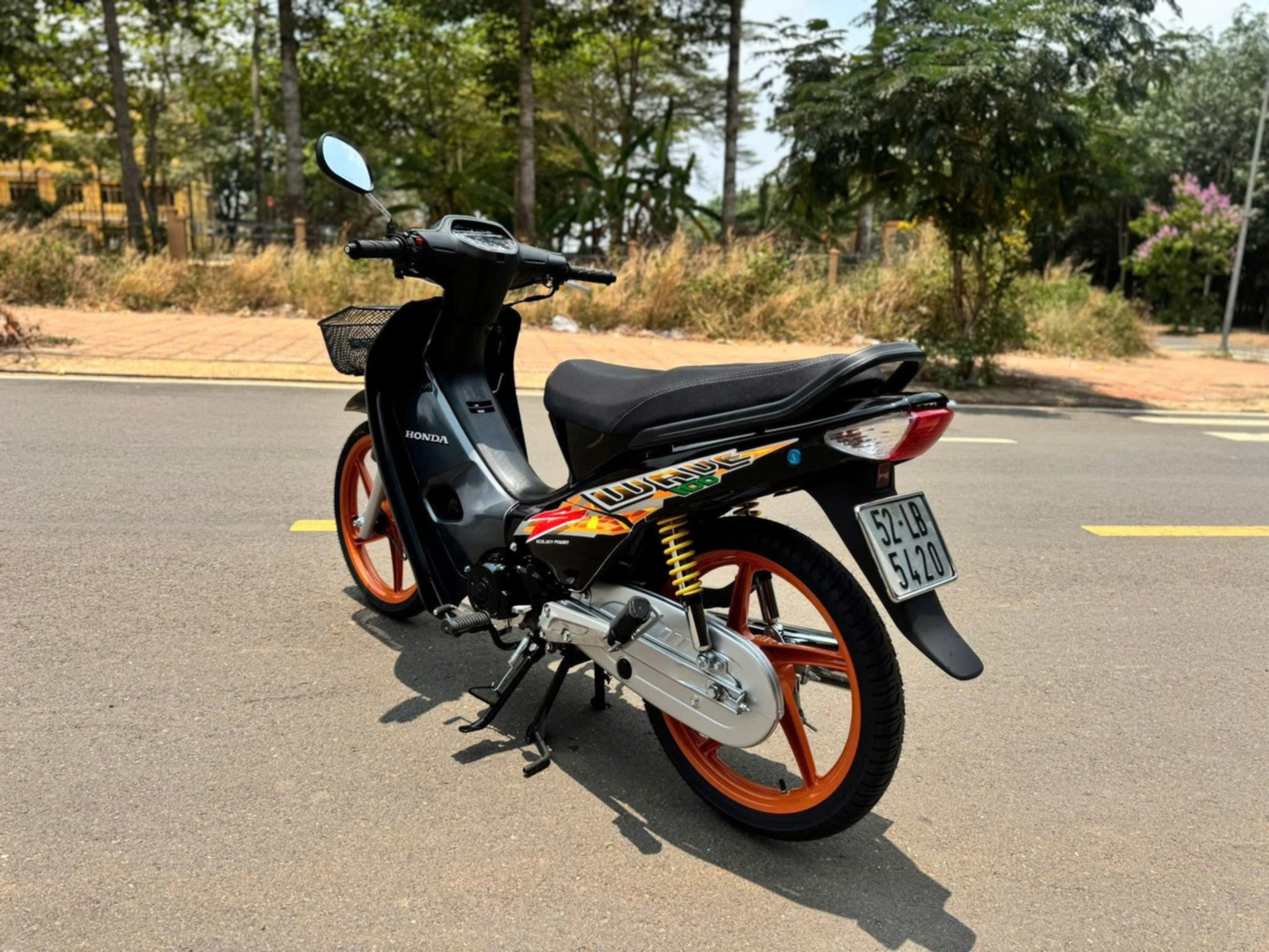Bien-so: (857, 512, 969, 630)
